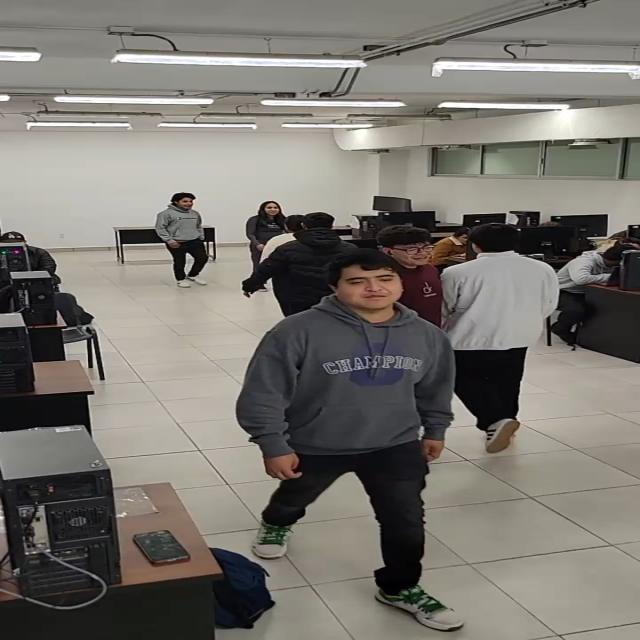Persona: (240, 263, 468, 637), (451, 221, 562, 455), (259, 207, 334, 305), (154, 188, 212, 293)
